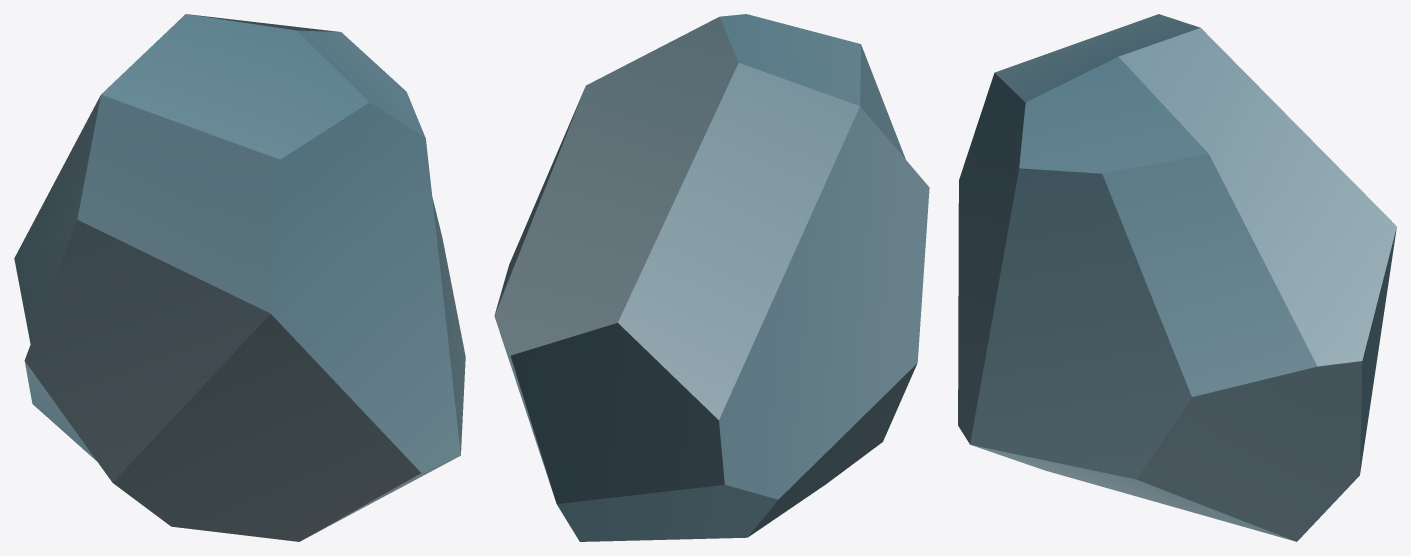
The model's file is Rock05.fbx.
3 renders of one model, left to right at view 1: azimuth 30°, elevation 25°; view 2: azimuth 150°, elevation 25°; view 3: azimuth 270°, elevation 25°, orthographic. The views are drawn at different scales.
Visible parts, largest first — view 1: LowPolyRock.005; view 2: LowPolyRock.005; view 3: LowPolyRock.005.
Boxes of the visible parts, box(x1,y1,x2,y2) form: LowPolyRock.005: box(14, 14, 465, 541); LowPolyRock.005: box(494, 14, 929, 541); LowPolyRock.005: box(958, 14, 1396, 541).
Size of the model in its own units: 102 by 115 by 99.26.
